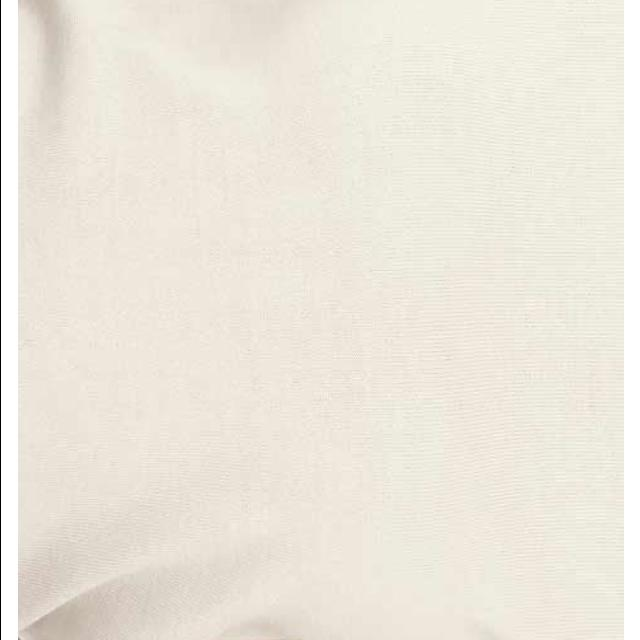wool: (17, 0, 623, 640)
